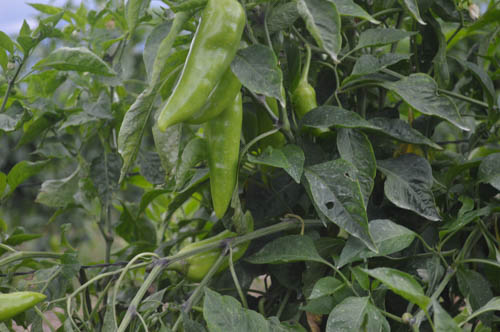ChiliPepper: (155, 1, 246, 142), (205, 95, 246, 221), (178, 217, 251, 279), (190, 67, 244, 133), (289, 86, 327, 136)
